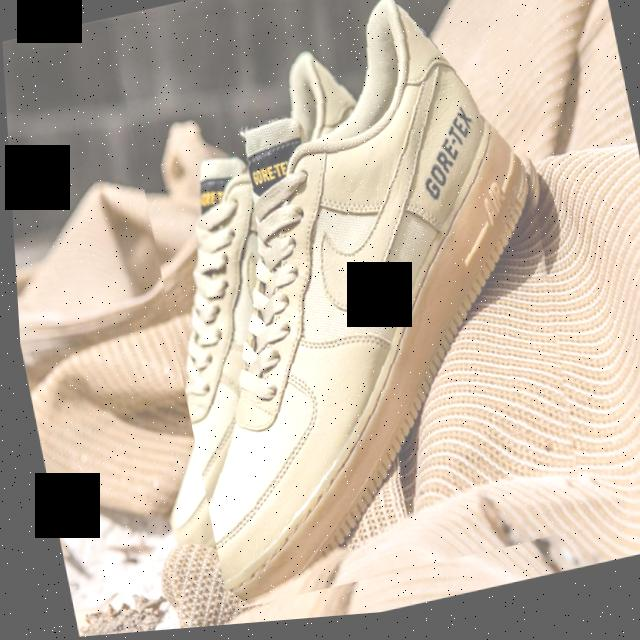shoe: (113, 0, 608, 620)
